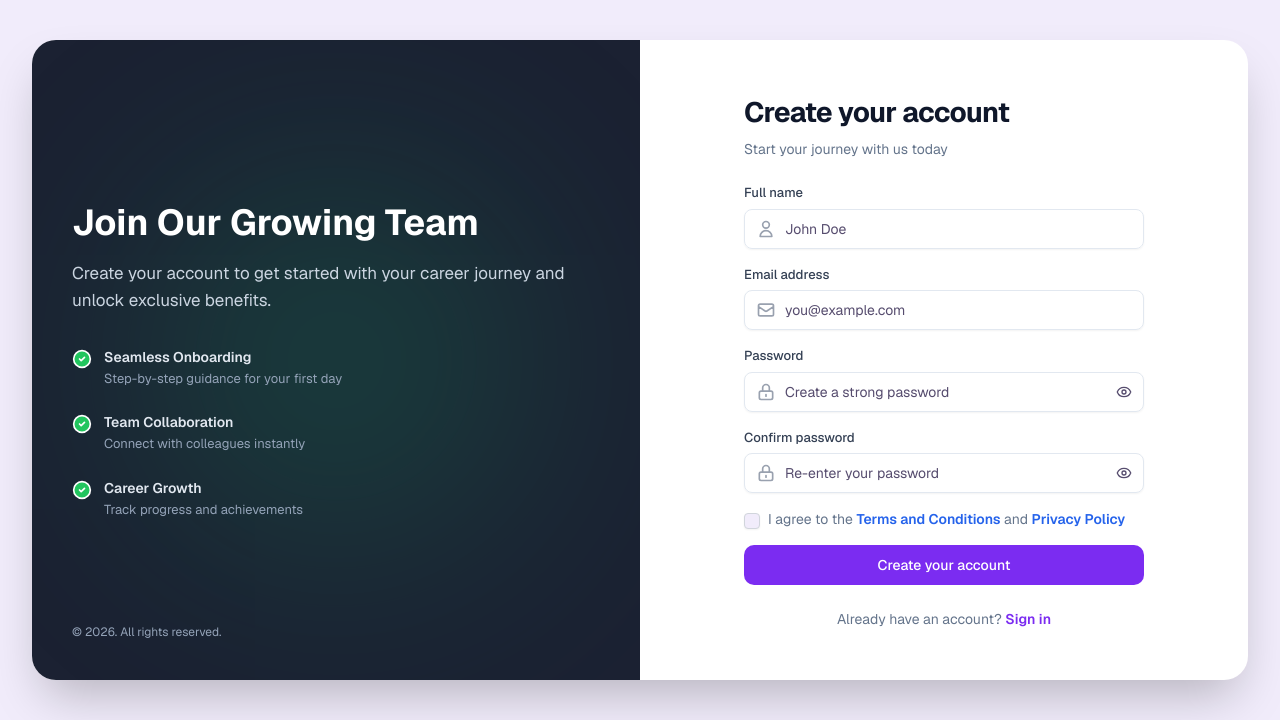
Test: RegisterPage – Successful Registration › shows loading state during registration
The image size is (1280, 720).
Expected: the field with placeholder "you@example.com" is shown, [744,290,1144,330]
Type "Jane Smith" into the field with placeholder "John Doe".
click(944, 228); type("Jane Smith")  # box [744,208,1144,248]
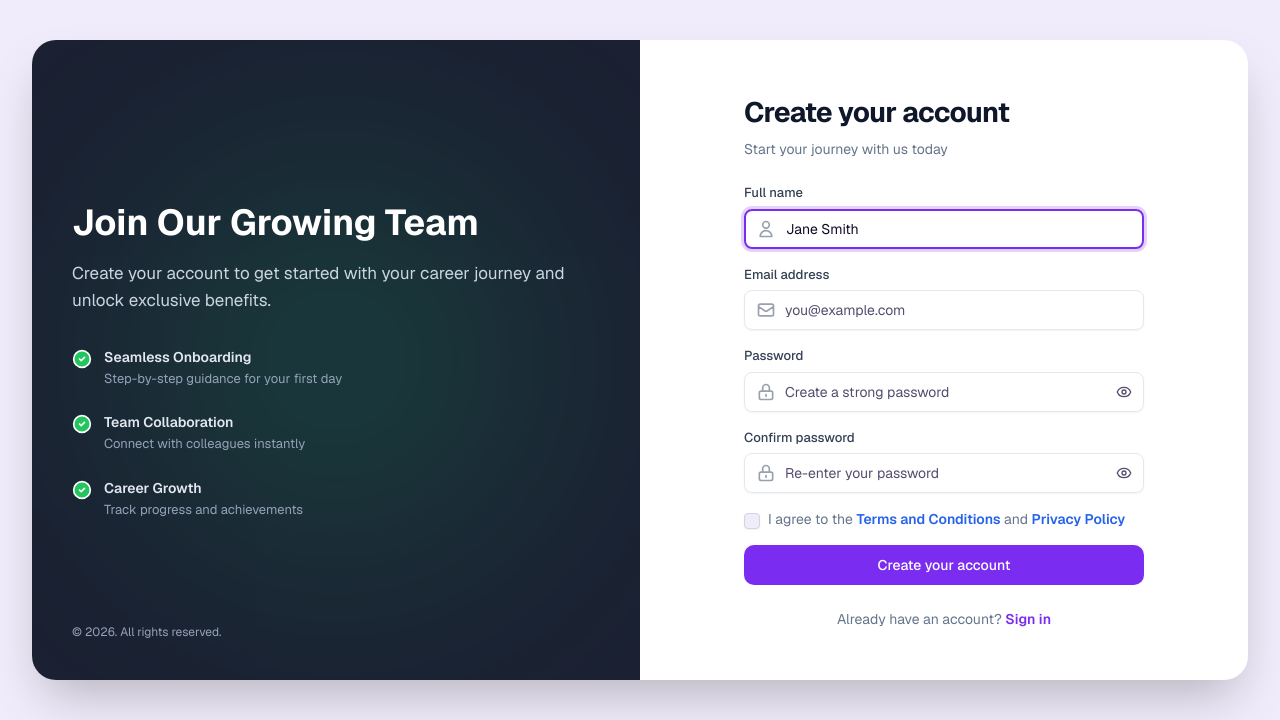
Type "jane@example.com" into the field with placeholder "you@example.com".
click(944, 310); type("jane@example.com")  # box [744,290,1144,330]
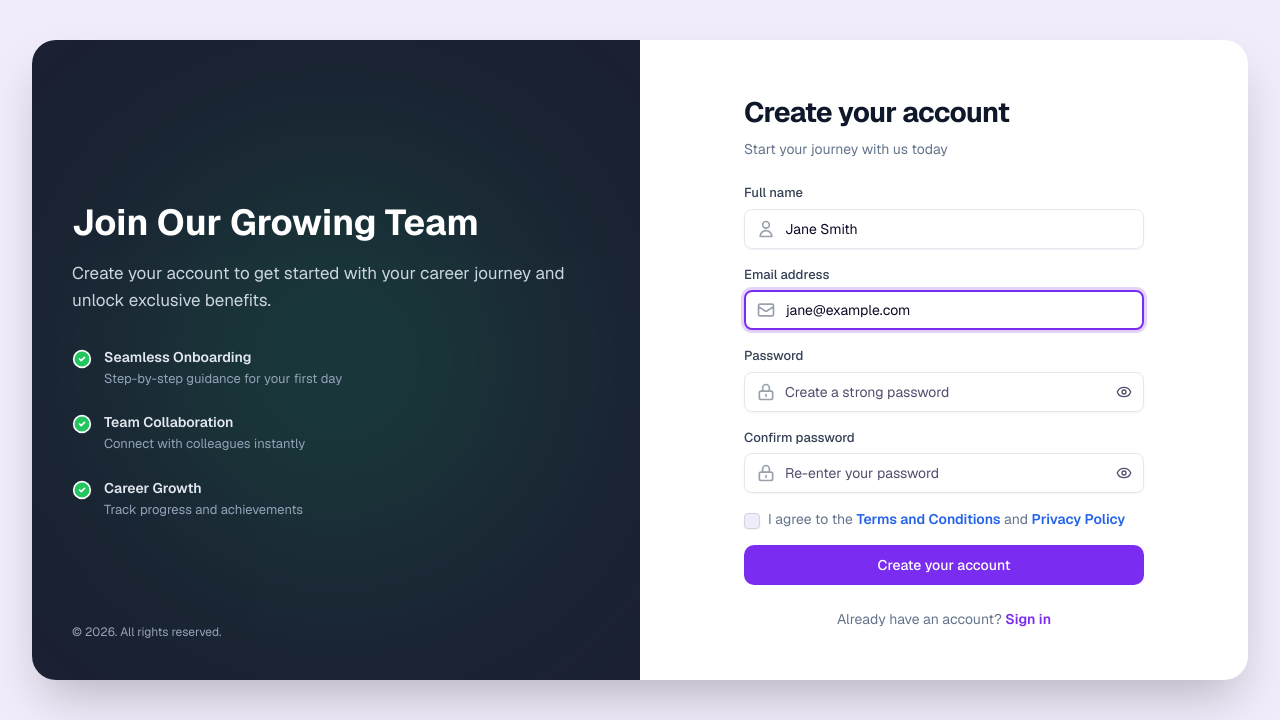
Type "Secret123!" into the password field with placeholder "Create a strong password".
click(944, 392); type("Secret123!")  # box [744,372,1144,412]
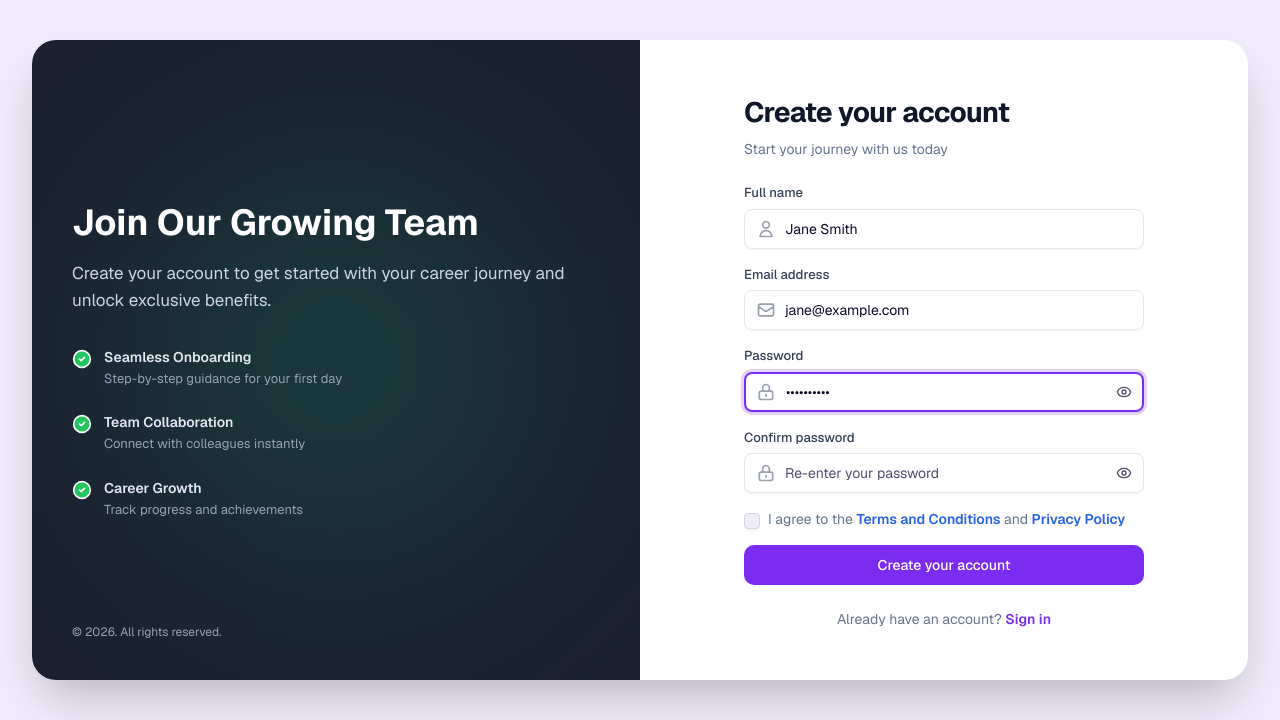
Type "Secret123!" into the password field with placeholder "Re-enter your password".
click(944, 473); type("Secret123!")  # box [744,453,1144,493]
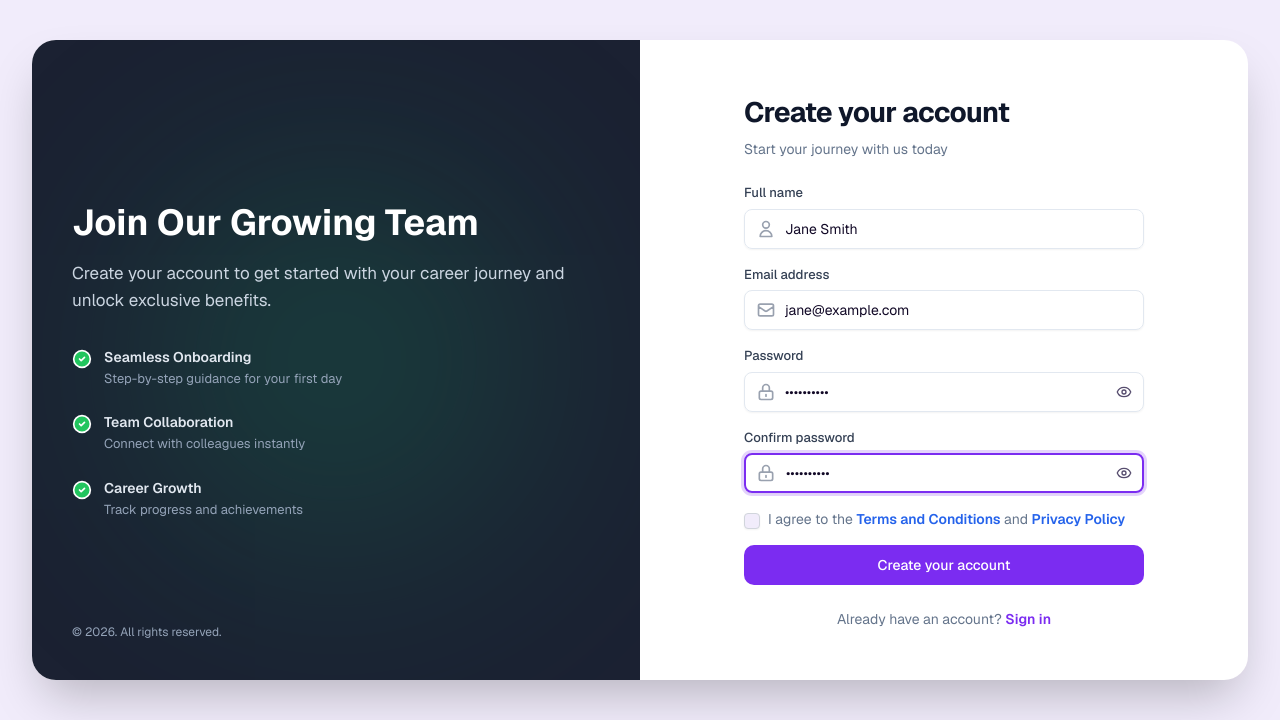
Submit the form, box [744,183,1144,585]
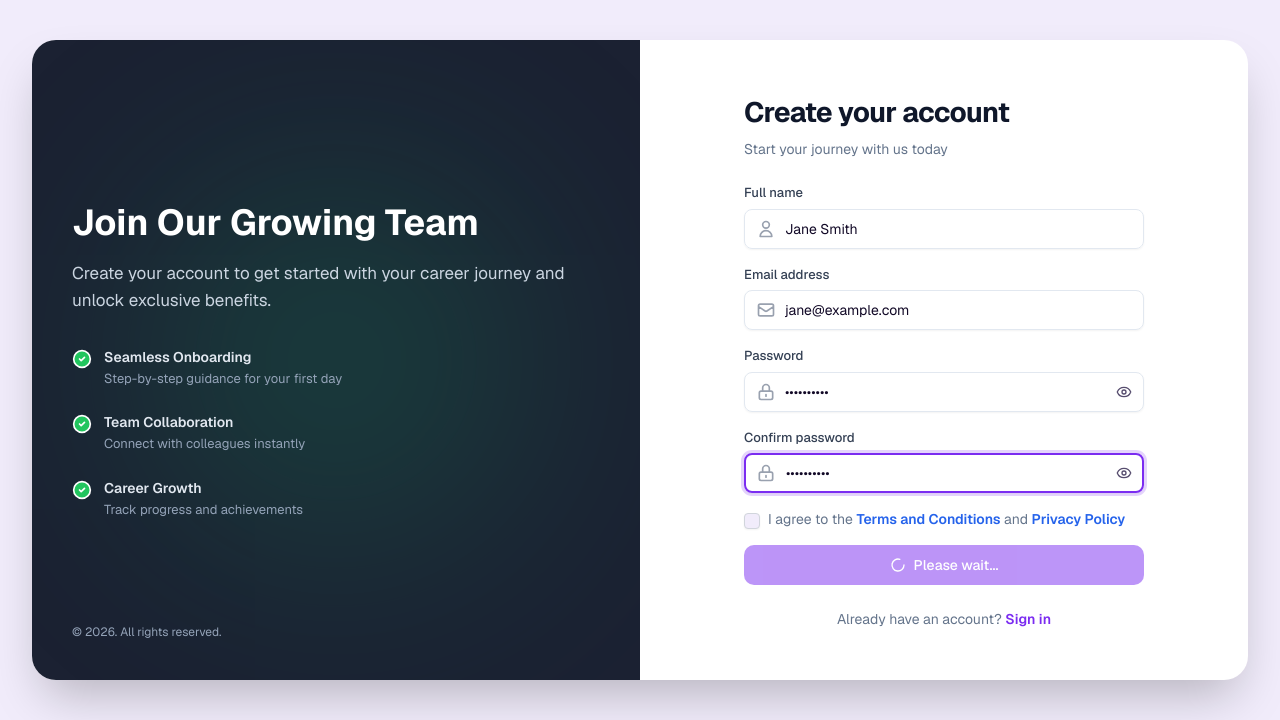
Expected: the button "Please wait..." is shown, [744,545,1144,585]
